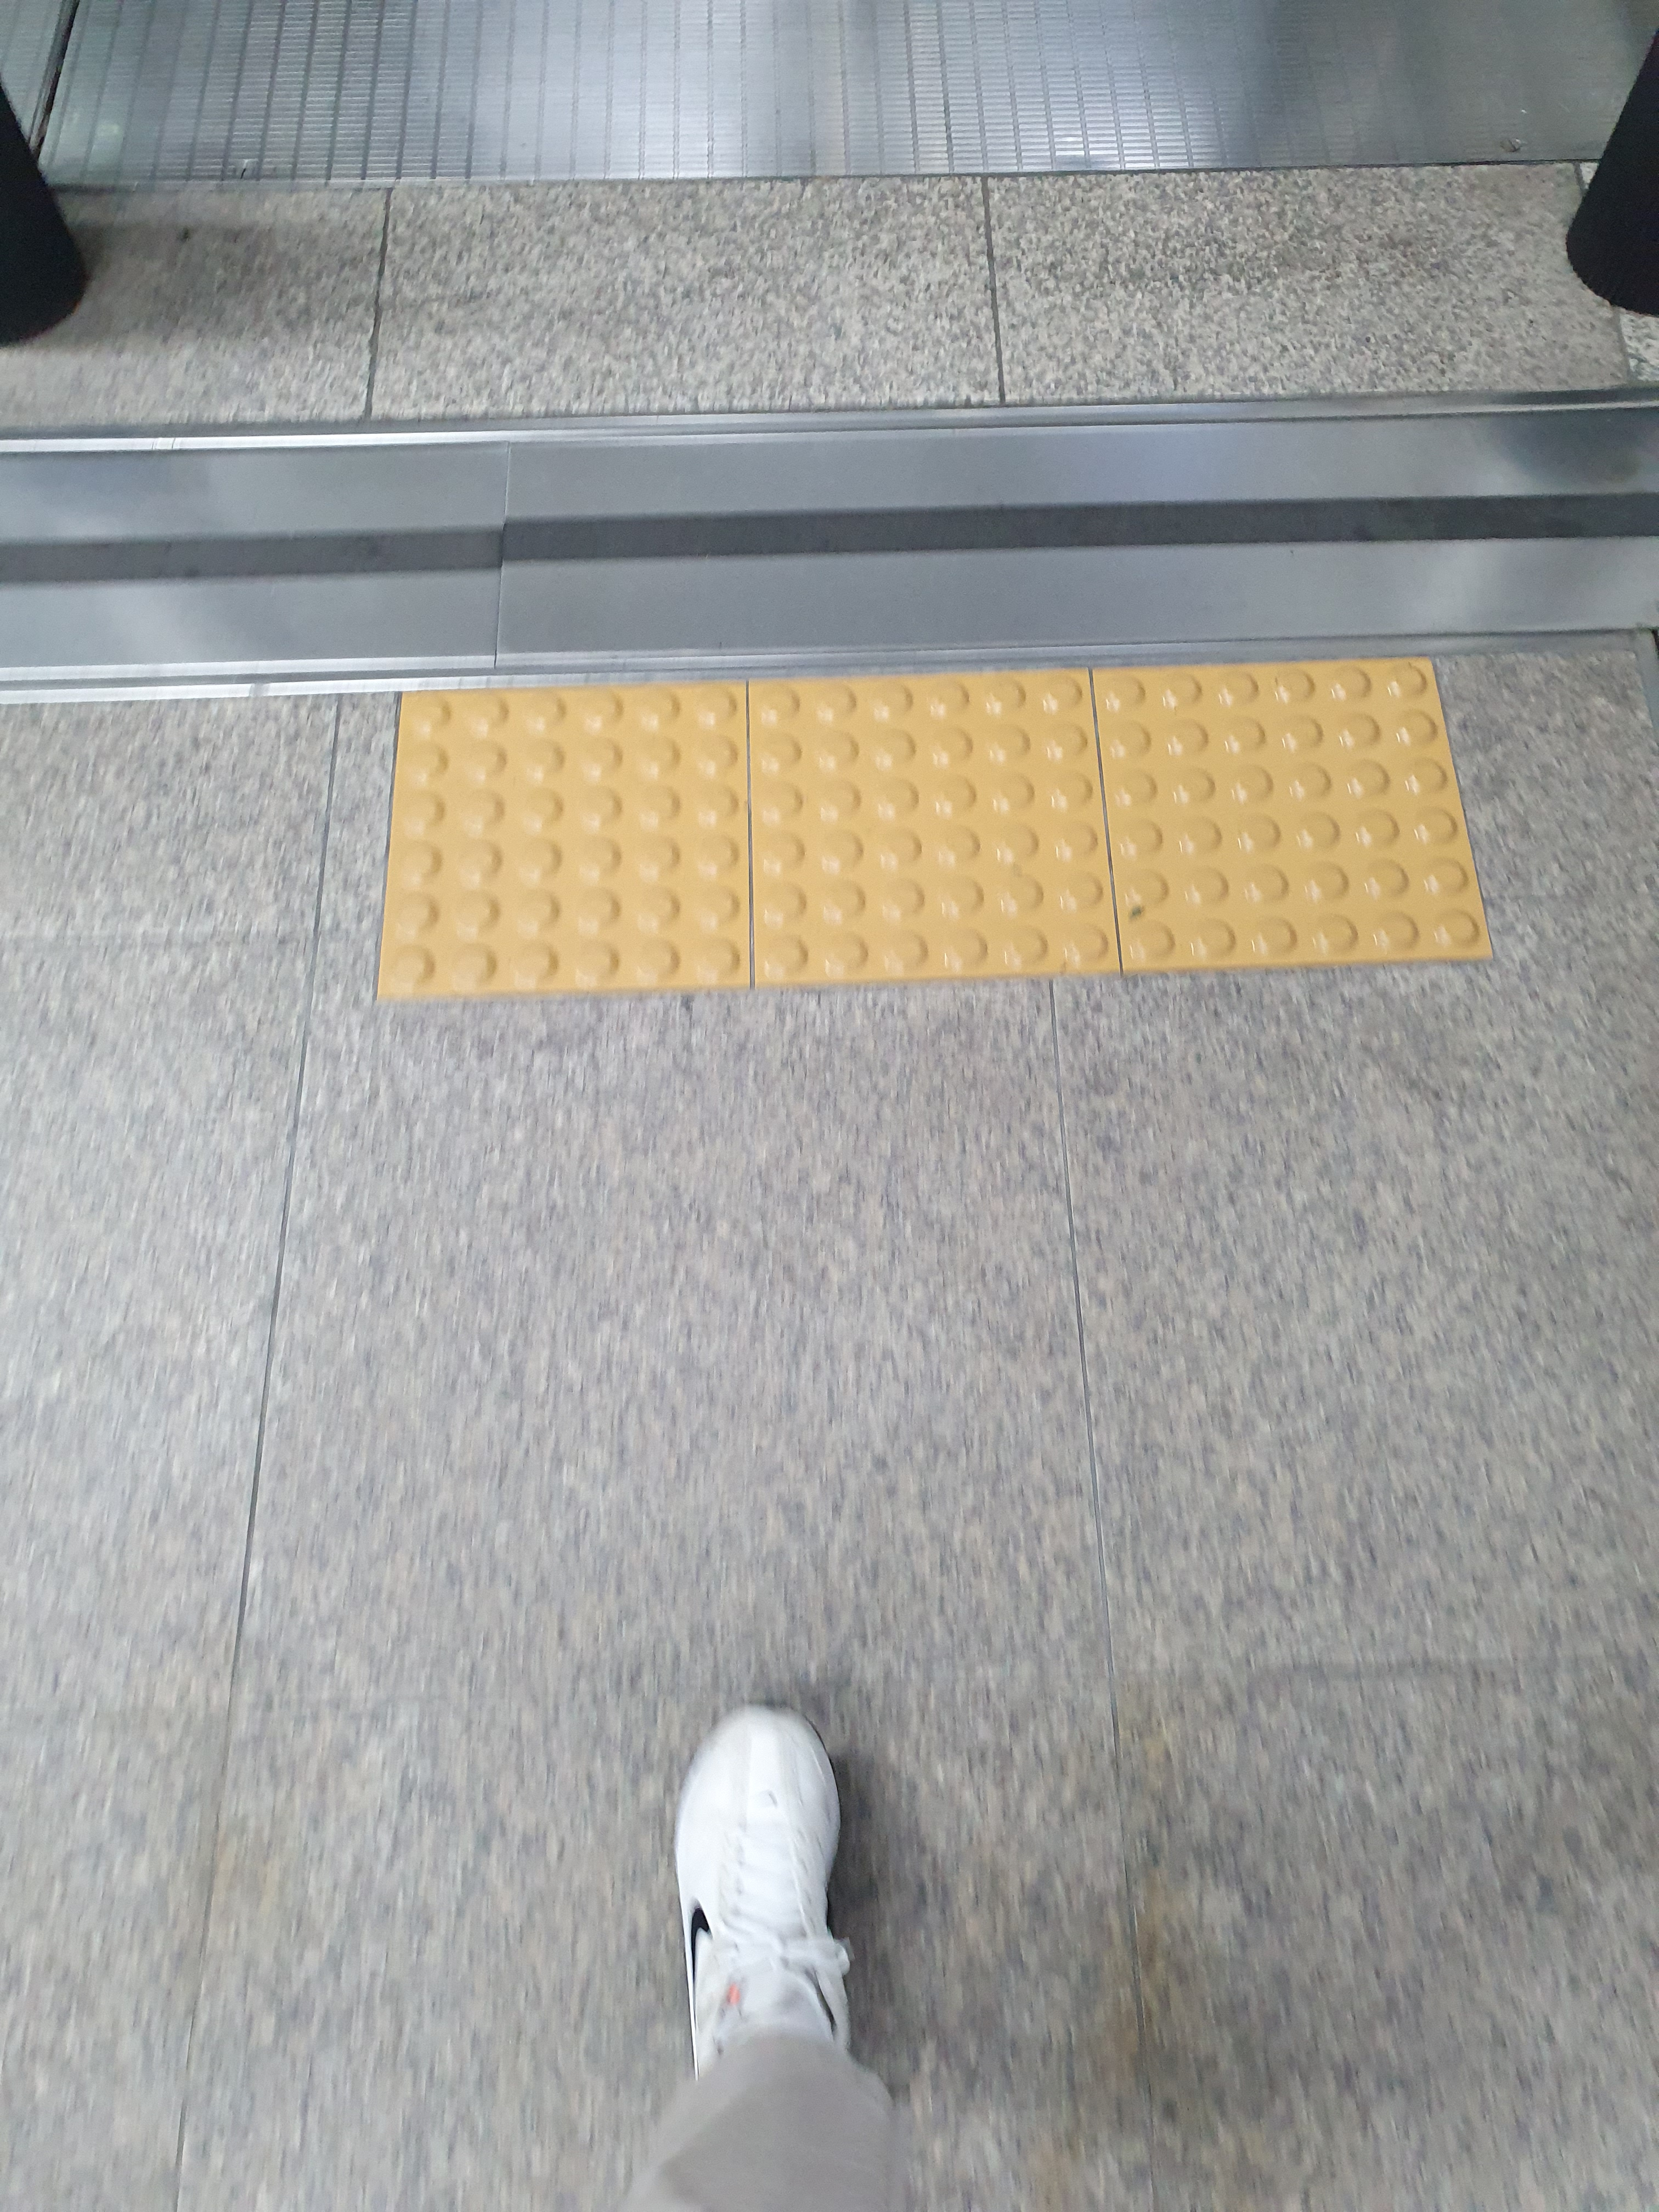warningBlock: (403, 695, 763, 996), (1126, 672, 1488, 960), (767, 679, 1126, 965)
